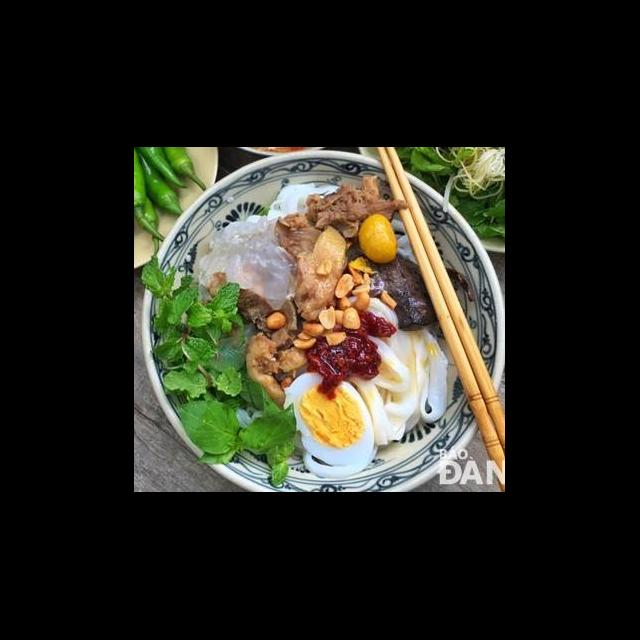mi: (340, 294, 452, 450), (244, 180, 342, 230)
thit ga: (272, 210, 354, 324)
thit heo: (304, 173, 414, 240)
trung: (280, 370, 378, 470)
